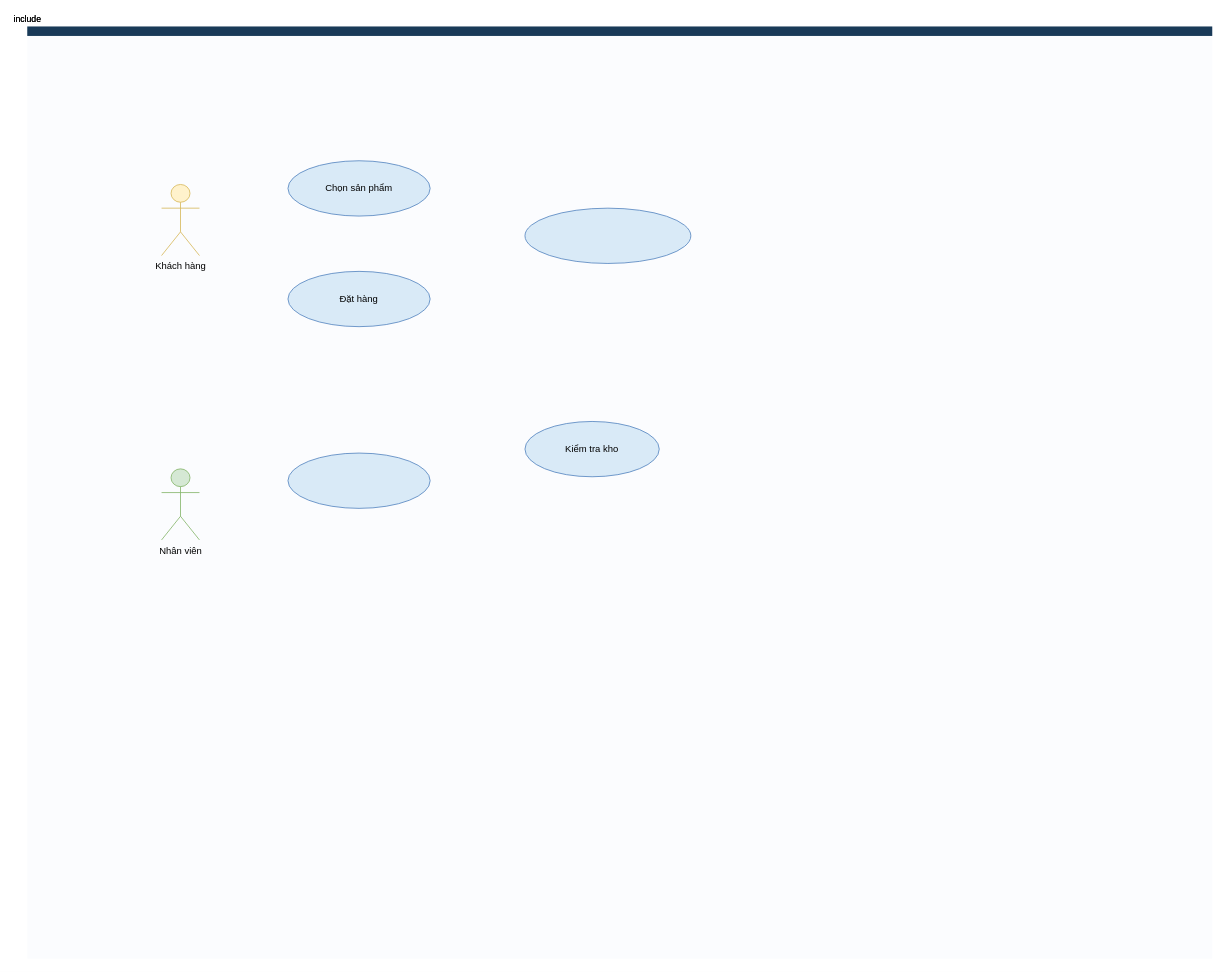
The diagram is 1226 pixels wide and 972 high, and some of its shapes have lost their labels. The centre of each missing label's shape, as x and y in pixels:
Giao hàng: pixel 358 480
Xác nhận thanh toán: pixel 607 235
